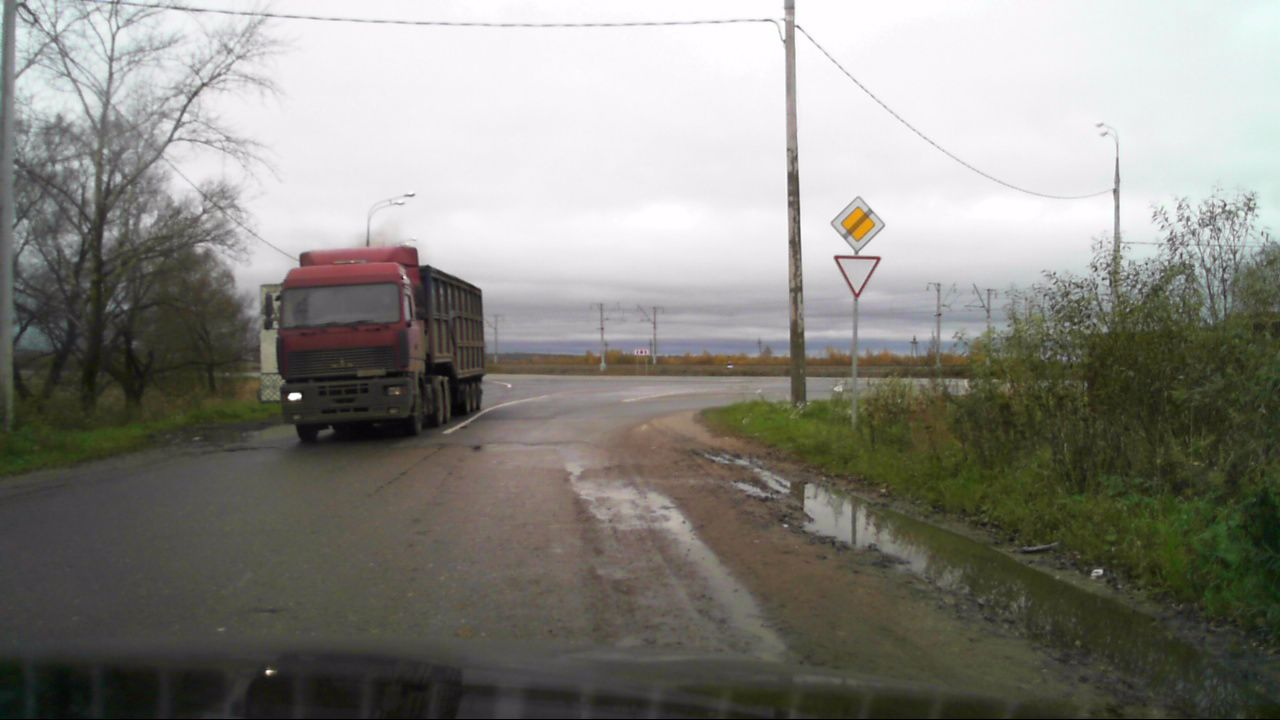main road: (828, 195, 885, 254)
